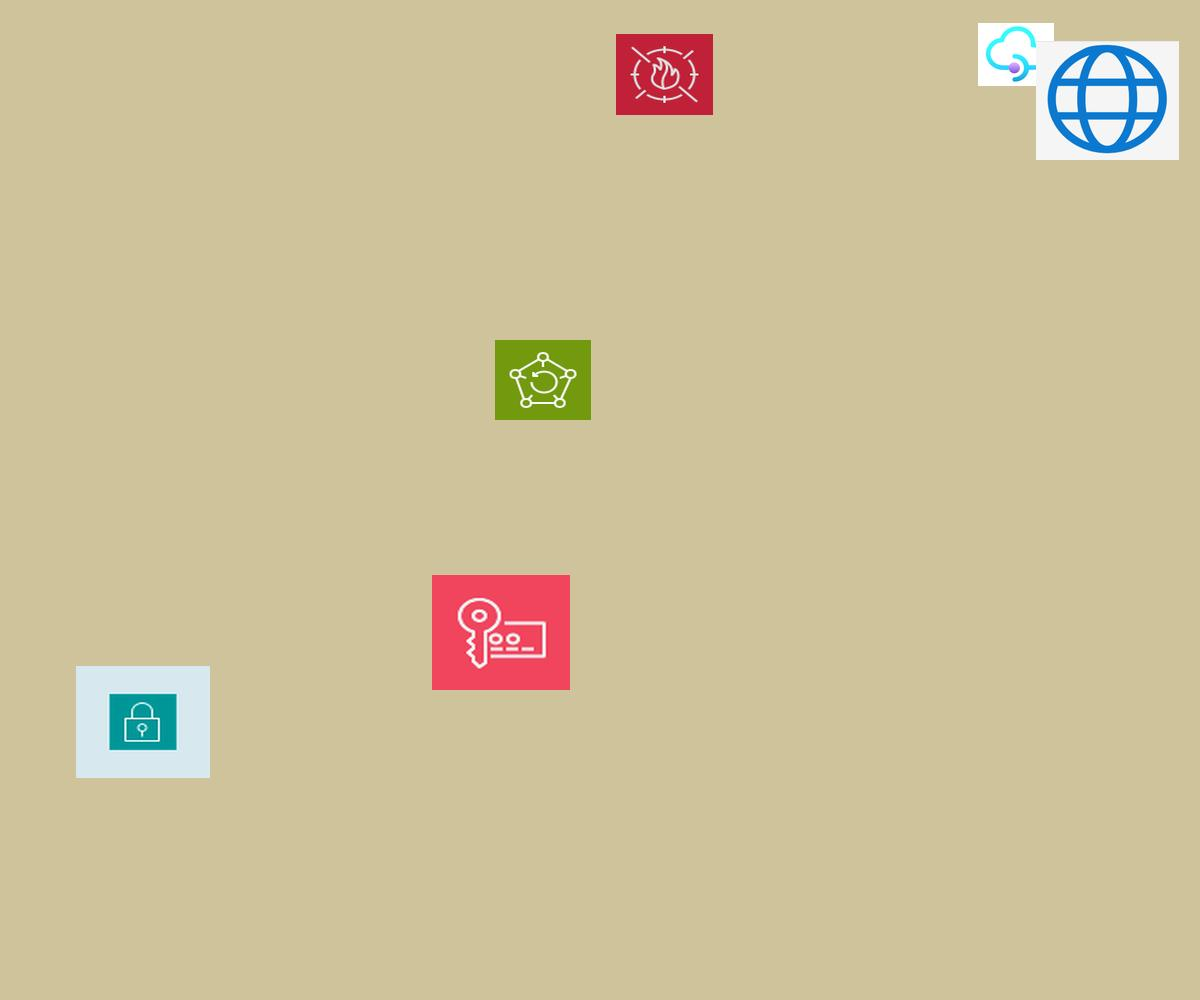AWS-Backup: (495, 340, 591, 420)
AWS-Key-Management-Service: (432, 575, 570, 690)
AWS-Private-subnet: (76, 666, 210, 778)
AWS-WAF: (616, 34, 713, 115)
Azure_api_gateway: (978, 23, 1054, 86)
Azure_http: (1036, 41, 1179, 160)
